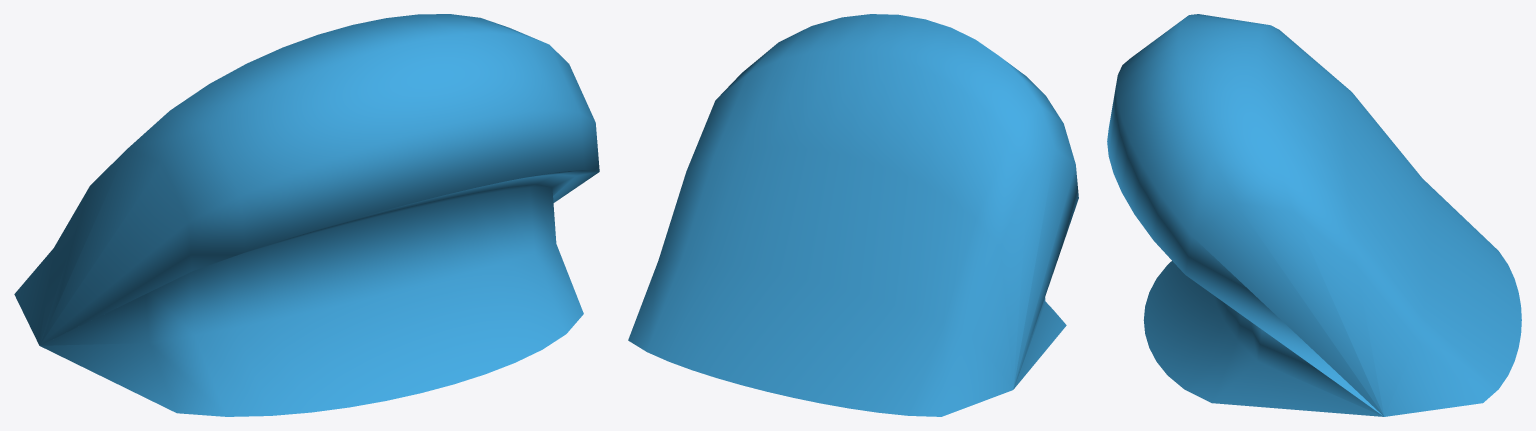
The model's file is wave.glb.
The picture shows the model from 3 angles, left to right: view 1: azimuth 30°, elevation 25°; view 2: azimuth 150°, elevation 25°; view 3: azimuth 270°, elevation 25°; orthographic projection. The views are drawn at different scales.
Parts seen in each view (by area): view 1: Wave; view 2: Wave; view 3: Wave.
Part boxes in pixels (left/top/right/bottom): Wave: left=14, top=14, right=599, bottom=416; Wave: left=628, top=14, right=1078, bottom=416; Wave: left=1107, top=14, right=1521, bottom=416.
Size of the model in its own units: 2 by 1.34 by 1.81.
